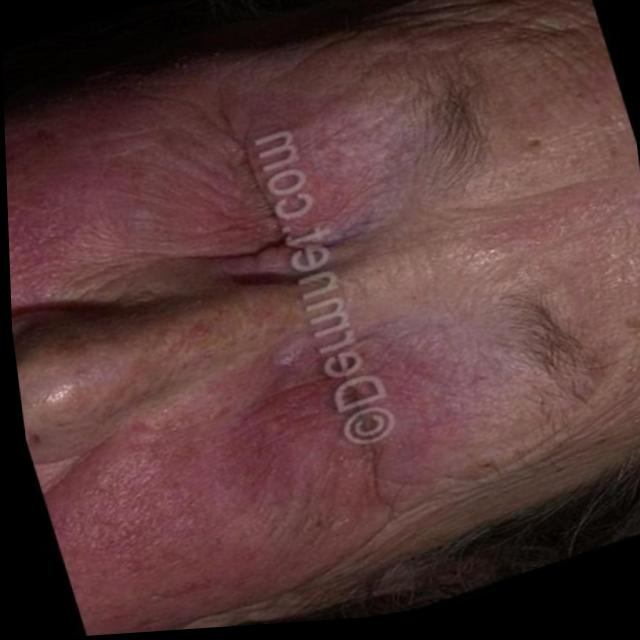Eczema: (2, 36, 362, 605)
